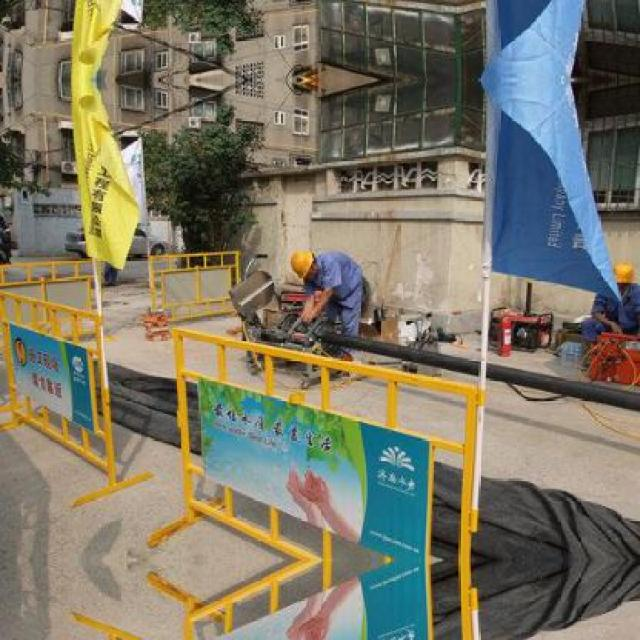helmet: (288, 250, 324, 282), (607, 258, 633, 296)
